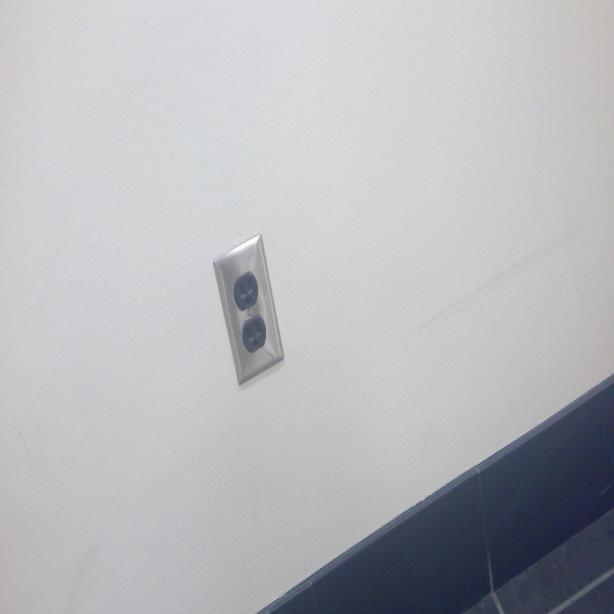typeb: (232, 270, 257, 310), (241, 321, 267, 355)
